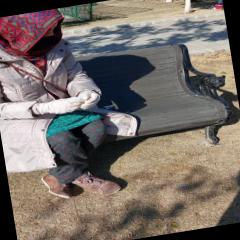gloved: (40, 96, 84, 116), (78, 90, 104, 112)
